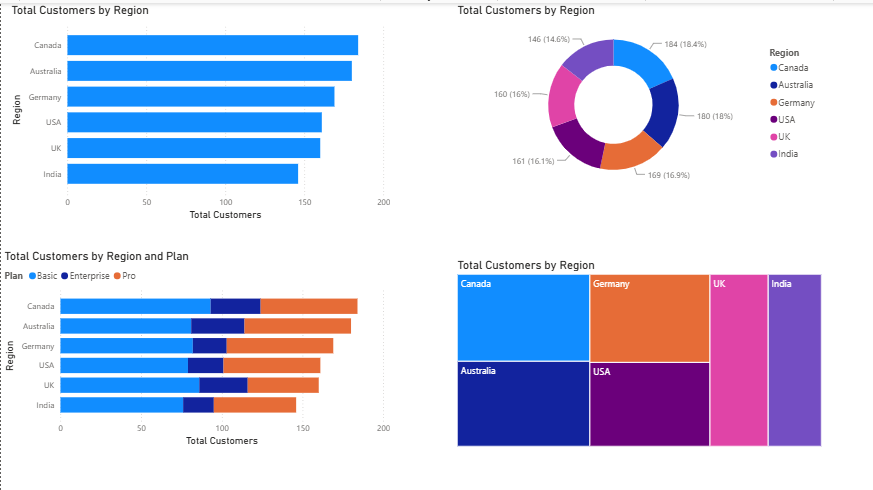

Layout of this report page (visuals, bound fields, positions):
{"tool":"powerbi","page":{"name":"Customer Analytics","canvas":[1280,720],"ordinal":1},"visuals":[{"type":"clusteredBarChart","fields":{"Category":["AI_Startup_Professional_Dataset.Region"],"Y":["AI_Startup_Professional_Dataset.Total Customers"]},"box":[10.1,0,564.4,322.5],"z":0},{"type":"donutChart","fields":{"Category":["AI_Startup_Professional_Dataset.Region"],"Y":["AI_Startup_Professional_Dataset.Total Customers"]},"box":[663.5,0,542.6,278.8],"z":1000},{"type":"treemap","fields":{"Group":["AI_Startup_Professional_Dataset.Region"],"Values":["AI_Startup_Professional_Dataset.Total Customers"]},"box":[663.5,372.9,542.6,280.5],"z":2000},{"type":"barChart","fields":{"Category":["AI_Startup_Professional_Dataset.Region"],"Y":["AI_Startup_Professional_Dataset.Total Customers"],"Series":["AI_Startup_Professional_Dataset.Plan"]},"box":[0,359.5,574.5,294],"z":3000}]}

Visuals, with their boxes in screenshot pixels (x1, y1, x2, y2), scaled from the page's 1280x720 canvas onto the 873x490 screenshot:
clusteredBarChart - AI_Startup_Professional_Dataset.Region x AI_Startup_Professional_Dataset.Total Customers: bbox(7, 0, 392, 219)
donutChart - AI_Startup_Professional_Dataset.Region x AI_Startup_Professional_Dataset.Total Customers: bbox(453, 0, 823, 190)
treemap - AI_Startup_Professional_Dataset.Region x AI_Startup_Professional_Dataset.Total Customers: bbox(453, 254, 823, 445)
barChart - AI_Startup_Professional_Dataset.Region x AI_Startup_Professional_Dataset.Total Customers: bbox(0, 245, 392, 445)
